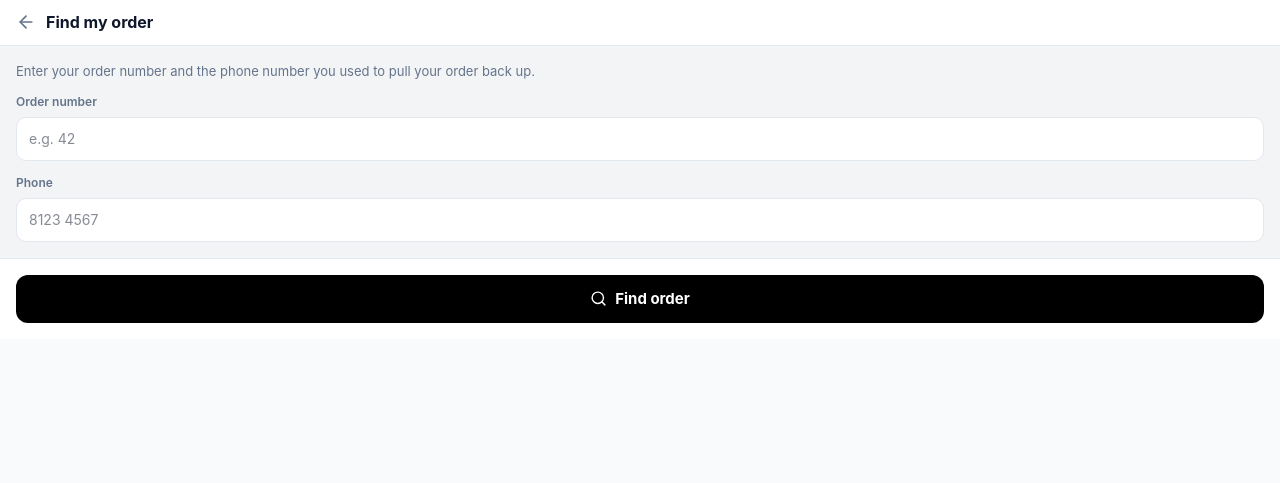
Test: OrderLookupView failure › shows the same message for a server error (never reveals which detail was wrong)
The image size is (1280, 483).
In the field with placeholder "e.g. 42": (640, 139) [16, 117, 1264, 161], type "42"
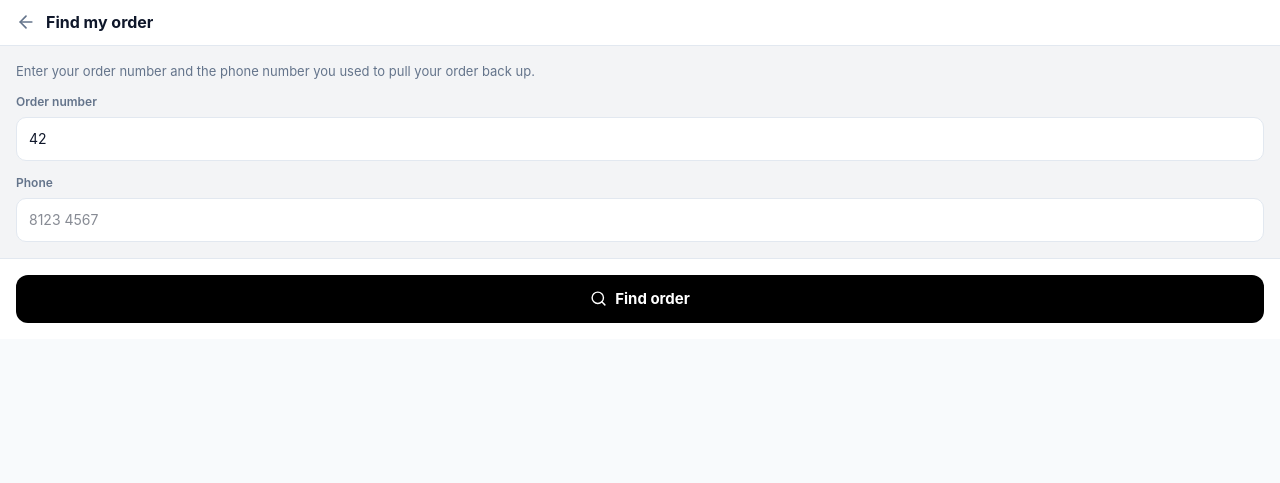
In the field with placeholder "8123 4567": (640, 220) [16, 198, 1264, 242], type "91234567"
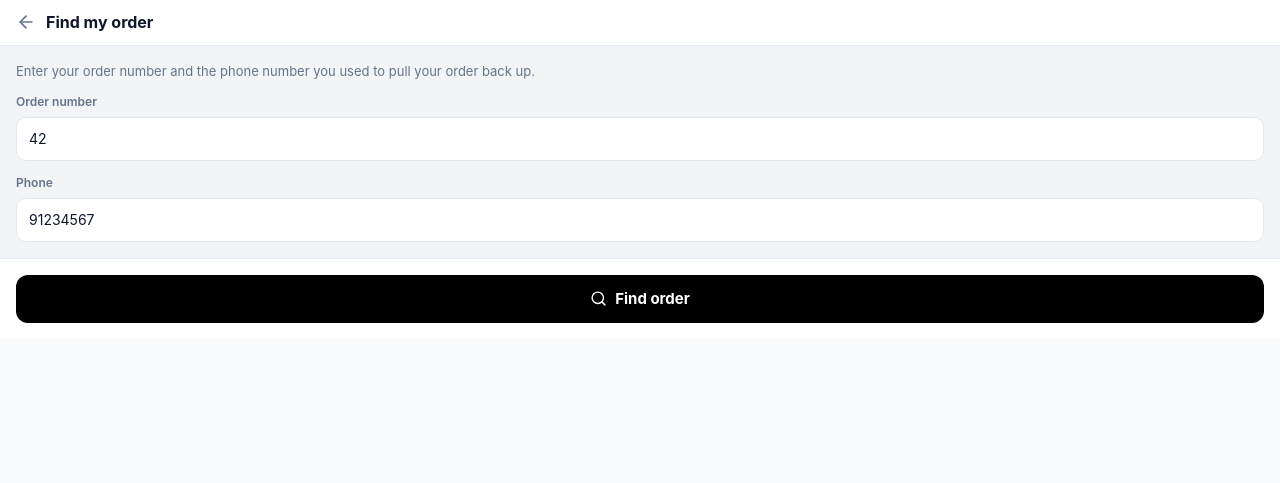
Click the button "Find order": (640, 299) [16, 275, 1264, 323]
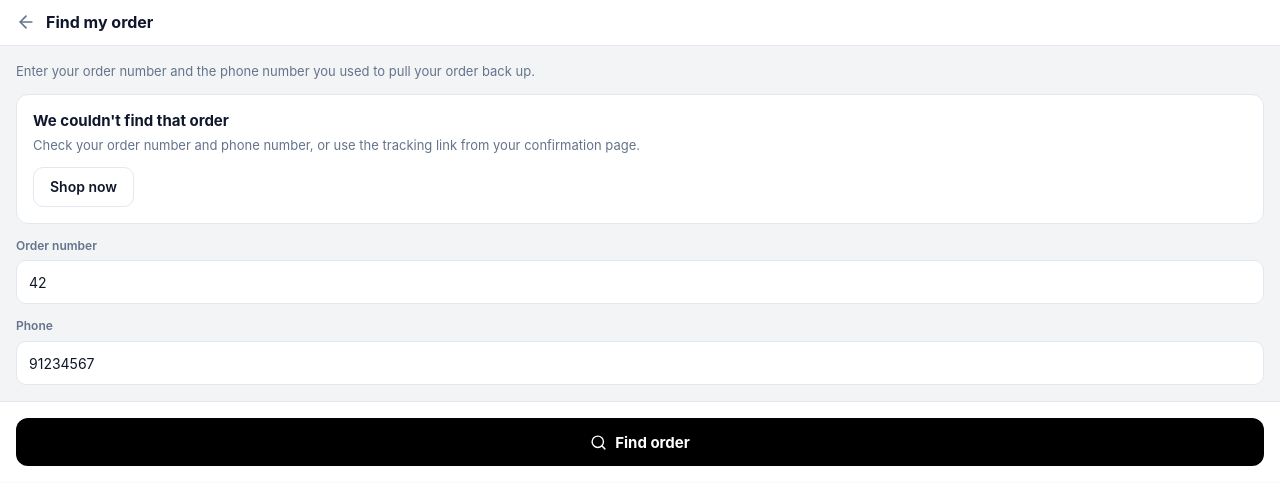
Expected: the heading "We couldn't find that order" is shown, [33, 111, 229, 130]
